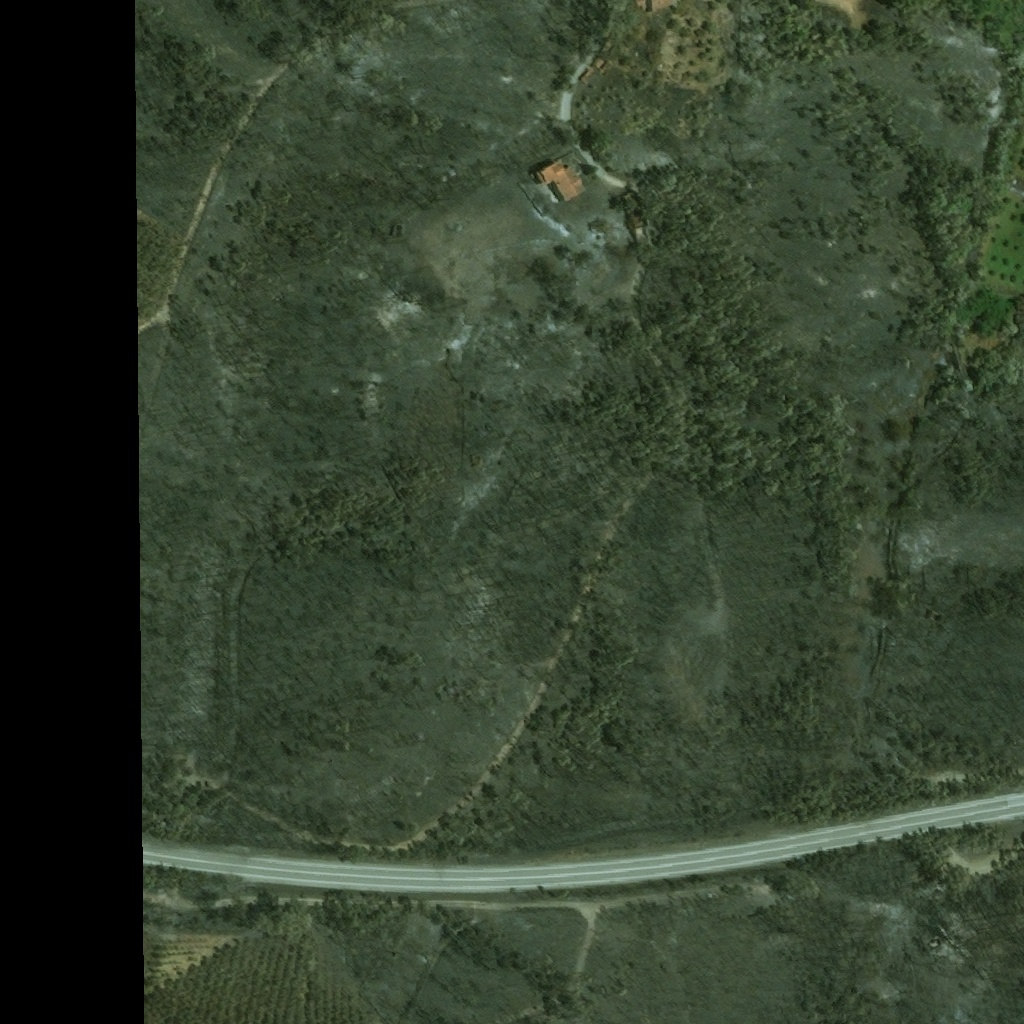0 no-damage: (535, 159, 586, 203)
1 minor-damage: (634, 225, 650, 241), (578, 71, 591, 83)
4 un-classified: (637, 0, 679, 14)
